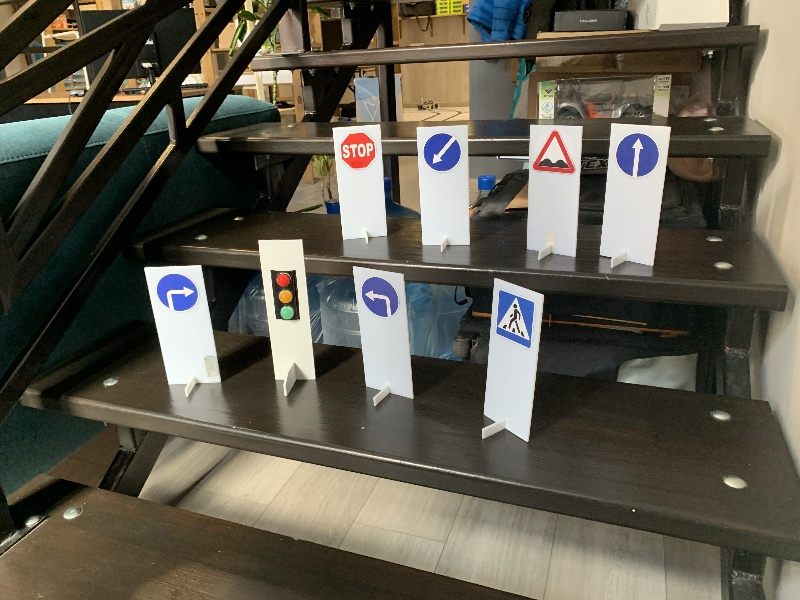Left: (357, 274, 400, 317)
Nerov: (531, 129, 573, 177)
Right: (153, 271, 199, 312)
Stop: (340, 132, 376, 166)
forw: (615, 132, 660, 179)
pesh: (494, 287, 536, 347)
prep: (422, 130, 460, 175)
